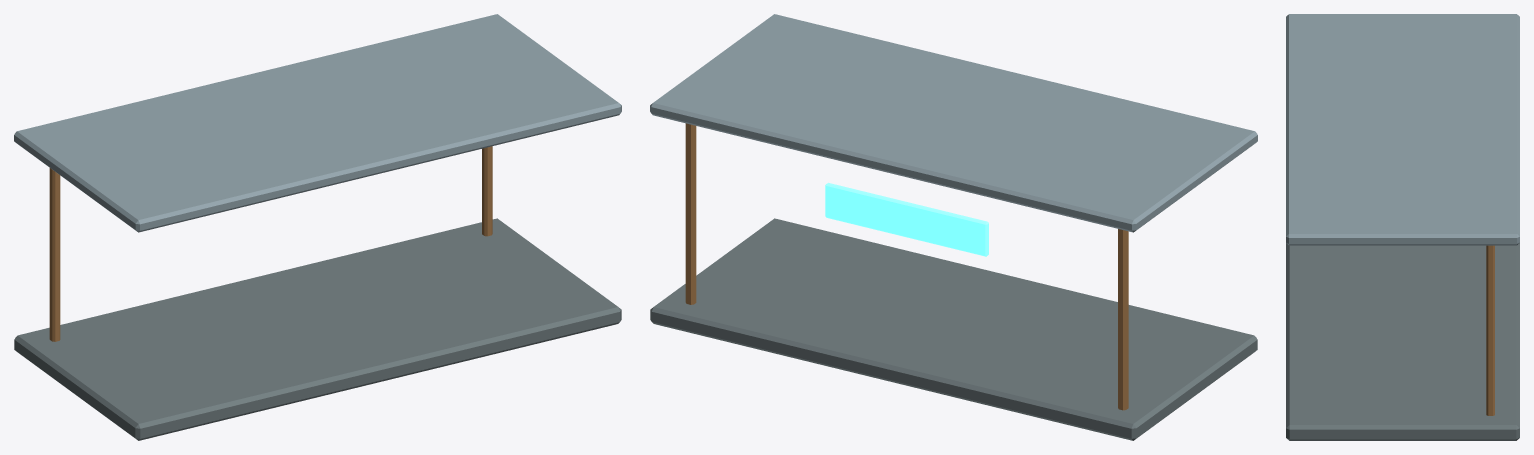
Rendered from station.lod0.glb.
3 views of the same model, side by side, from view 1: azimuth 30°, elevation 25°; view 2: azimuth 150°, elevation 25°; view 3: azimuth 270°, elevation 25° (orthographic). The views are drawn at different scales.
Parts seen in each view (by area): view 1: structure; view 2: structure; view 3: structure.
Boxes of the visible parts, <box> form: structure: <box>14,14,621,440</box>; structure: <box>650,14,1257,440</box>; structure: <box>1286,14,1519,440</box>.
Size of the model in its own units: 9 by 3.91 by 4.
